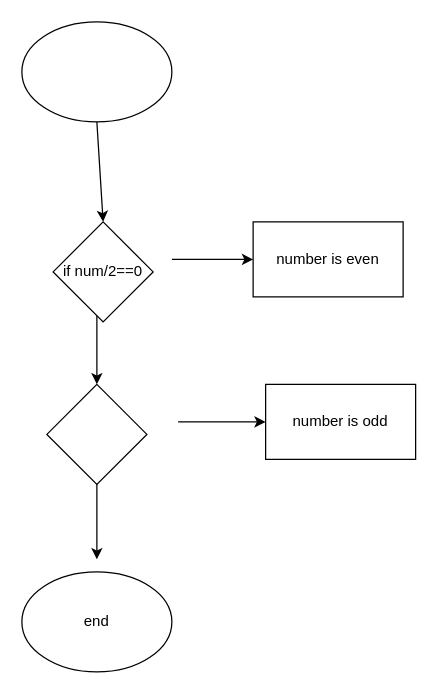
Image size: 438x694. Some labels were removed from this diagram. The shapes that lost their labels are listed below. From the top down, each one's centre as x and y in pixels, then its label:
At point 96,71: "start".
At point 96,433: "if num/2l=0".
